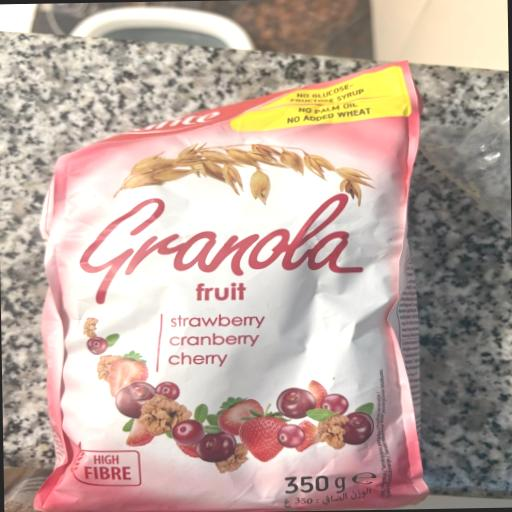granola: (18, 52, 458, 512)
